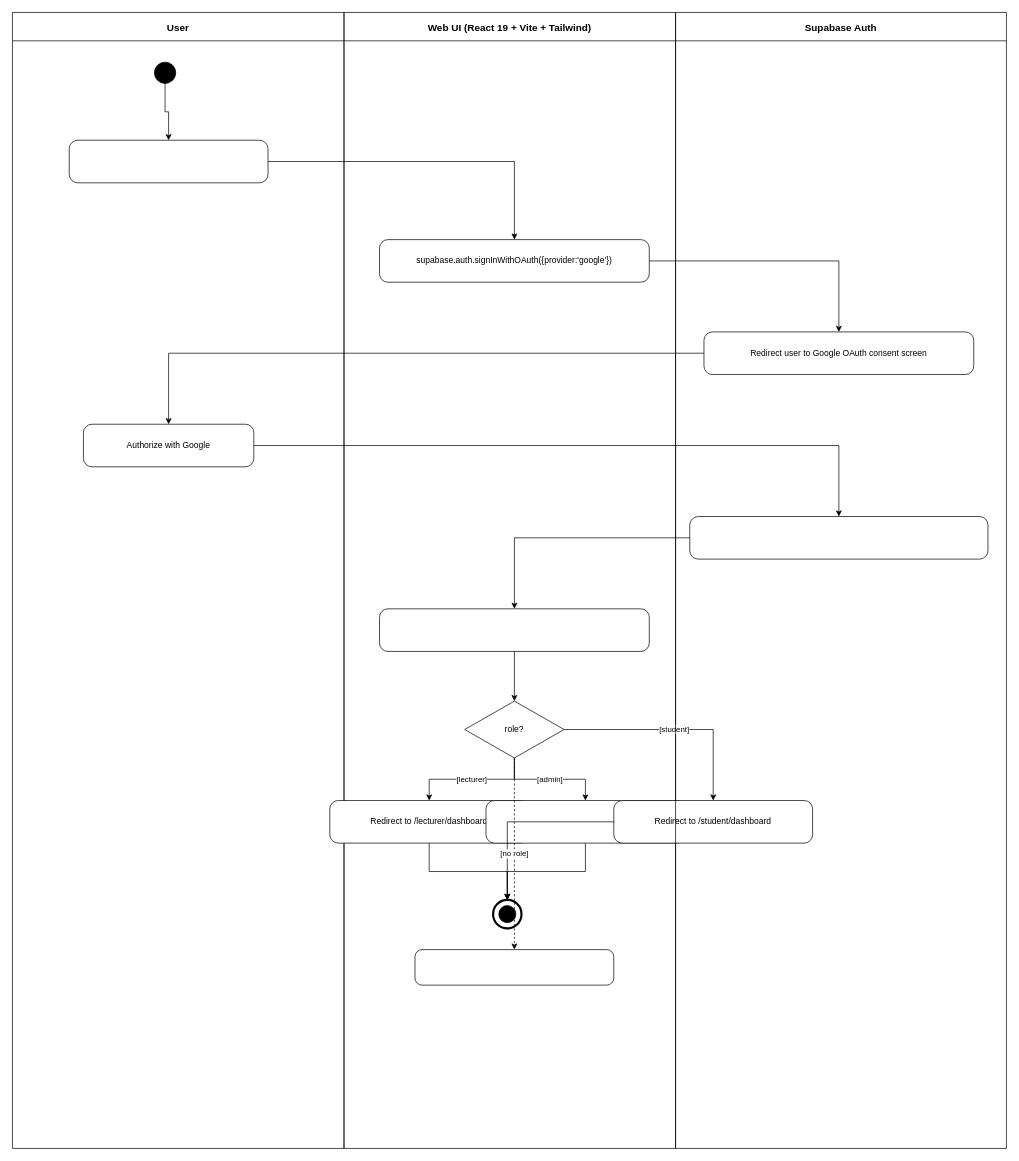
Some shapes in this 1019 by 1161 pixel diagram are drawn without their labels. The centre of each missing label's shape, as x and y in pixels:
Click "Sign in with Google": point (168, 161)
Read role from auth.users.app_metadata.role; issue JWT session: point (838, 537)
Redirect to /admin/dashboard: point (585, 821)
Show error: unauthorized account: point (514, 967)
supabase.auth.getSession() persists JWT: point (514, 629)
